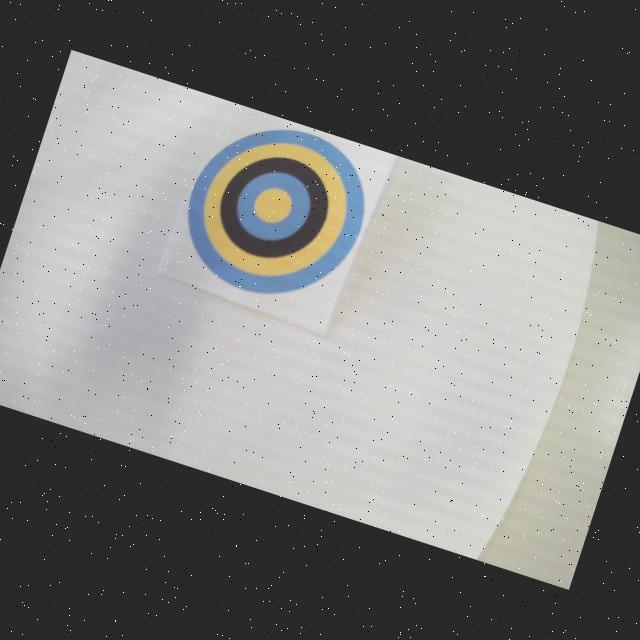COGNITIVE: (168, 103, 386, 319)
